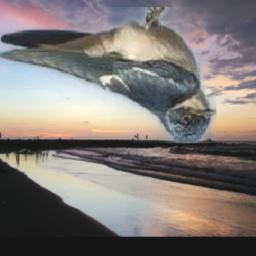Swallow: (0, 7, 216, 143)
